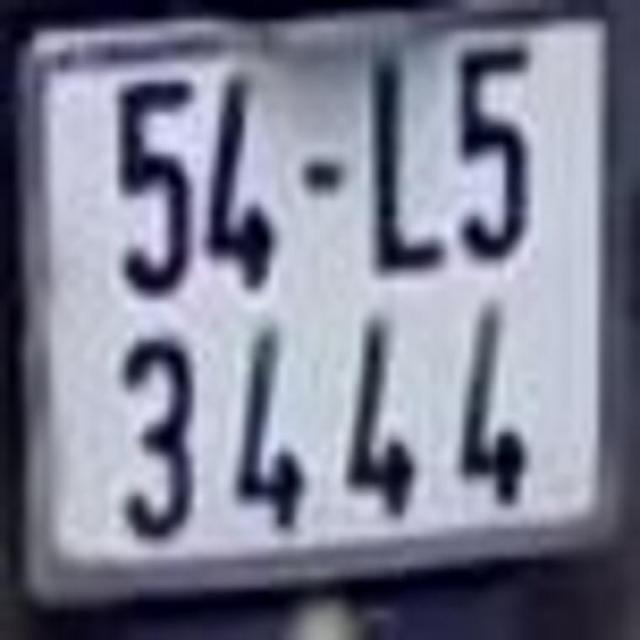3: (122, 334, 195, 542)
4: (348, 316, 421, 527), (458, 296, 529, 506), (209, 76, 274, 295), (241, 324, 302, 526)
5: (116, 79, 193, 300), (461, 45, 535, 256)
L: (373, 56, 448, 273)
